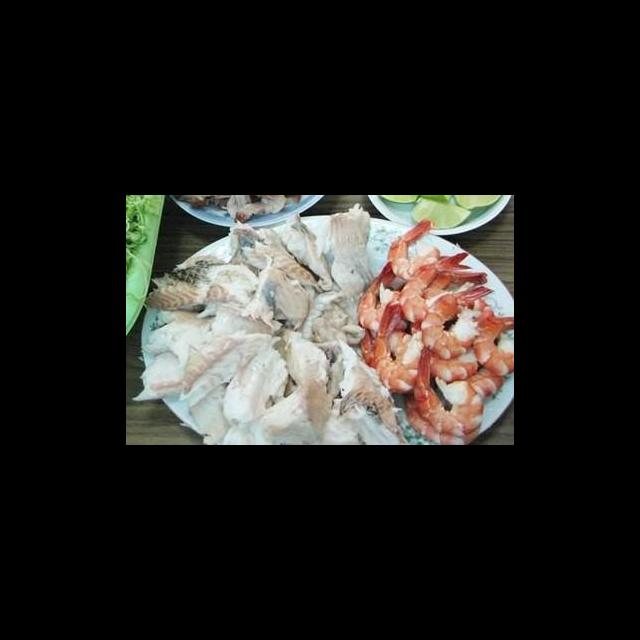ca: (175, 329, 284, 406), (137, 251, 264, 313), (330, 336, 404, 435), (219, 342, 293, 428), (315, 200, 378, 299), (238, 263, 316, 337), (236, 224, 322, 289), (257, 372, 333, 445), (276, 209, 340, 294), (268, 322, 336, 393), (129, 346, 208, 405), (139, 304, 225, 353)
tom: (410, 339, 488, 436), (417, 279, 497, 363), (398, 246, 474, 327), (368, 297, 429, 396), (354, 257, 411, 335), (385, 216, 445, 284), (469, 311, 514, 380)
